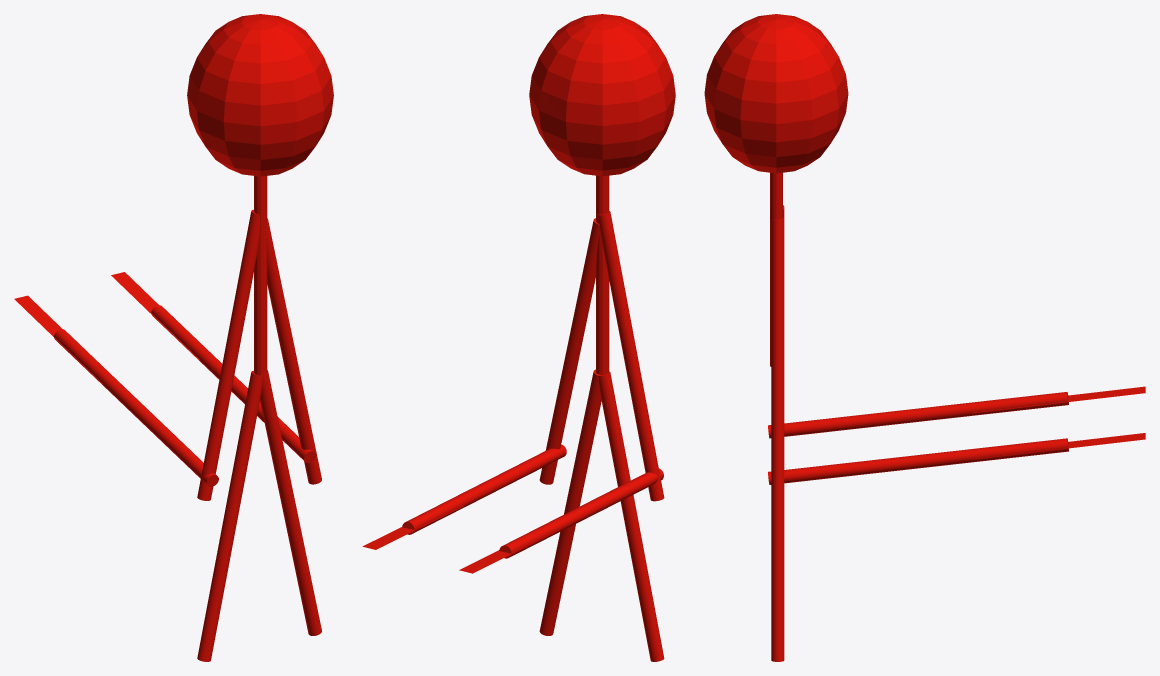
File: Ketua_Musuh.glb
3 views of the same model, side by side, from view 1: azimuth 30°, elevation 25°; view 2: azimuth 150°, elevation 25°; view 3: azimuth 270°, elevation 25° (orthographic). The views are drawn at different scales.
Parts seen in each view (by area): view 1: Ketua Musuh; view 2: Ketua Musuh; view 3: Ketua Musuh.
Boxes of the visible parts, bbox=[...] form: Ketua Musuh: bbox=[14, 14, 333, 661]; Ketua Musuh: bbox=[362, 14, 675, 661]; Ketua Musuh: bbox=[704, 14, 1145, 661].
Size of the model in its own units: 1.65 by 7.79 by 5.05.
